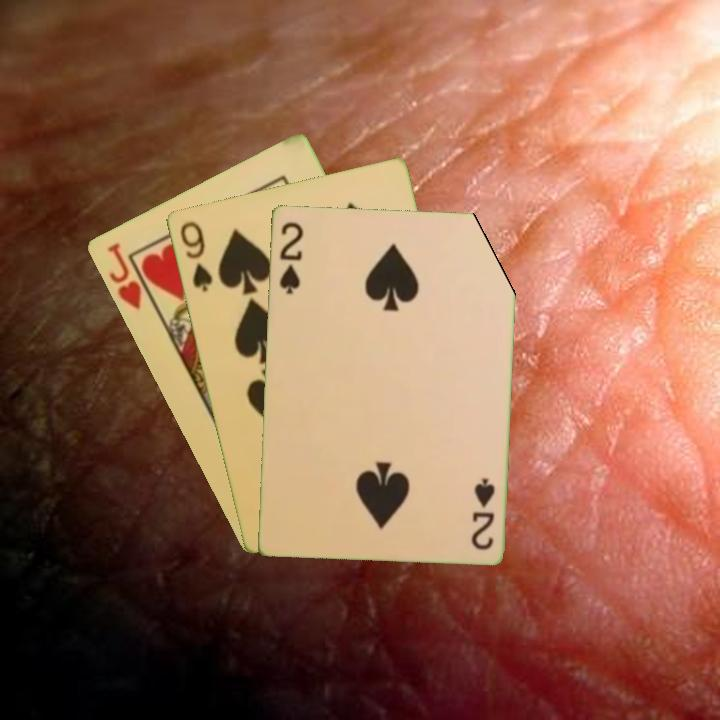2s: (467, 474, 498, 552), (276, 218, 306, 297)
9s: (176, 217, 215, 295)
Jh: (103, 238, 158, 313)
